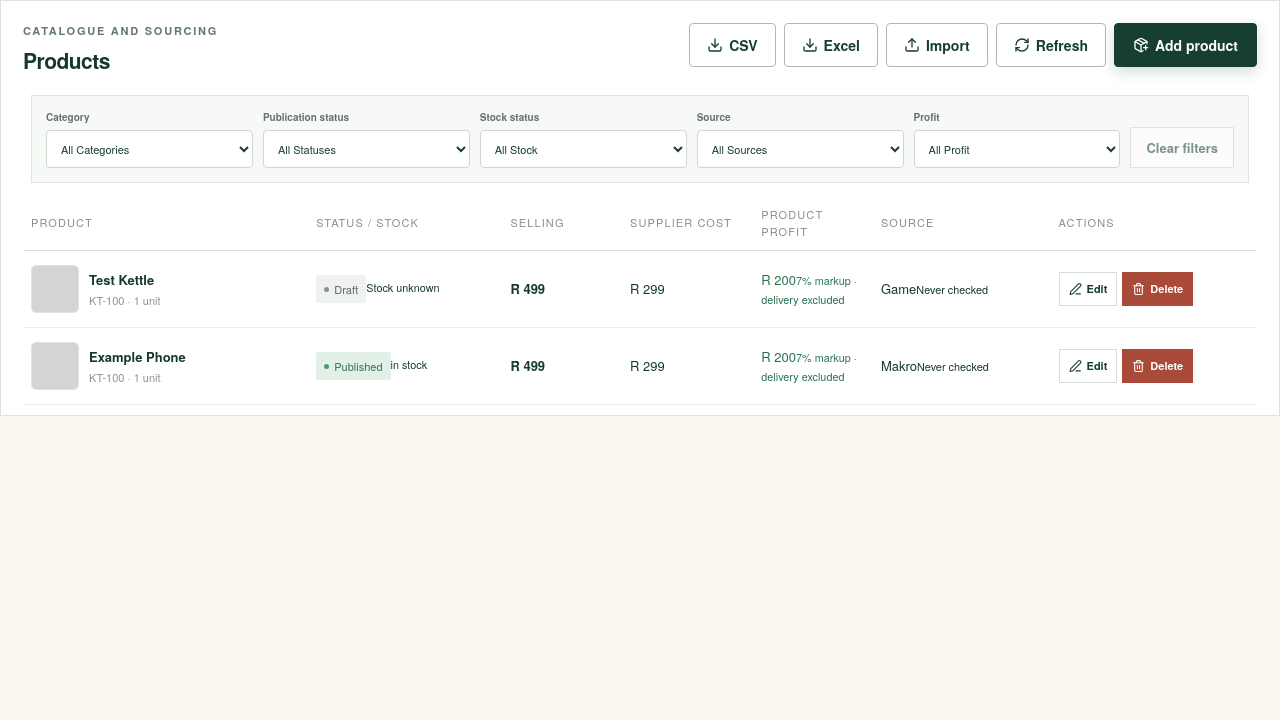
it: ProductManager actions › uses the custom confirmation dialog and deletes only after confirmation
The image size is (1280, 720).
Check: the text "Test Kettle" is shown, box x1=89 y1=270 x2=154 y2=288
Click the button with aria-label "Delete Test Kettle" at (1158, 289), box x1=1122 y1=272 x2=1193 y2=306
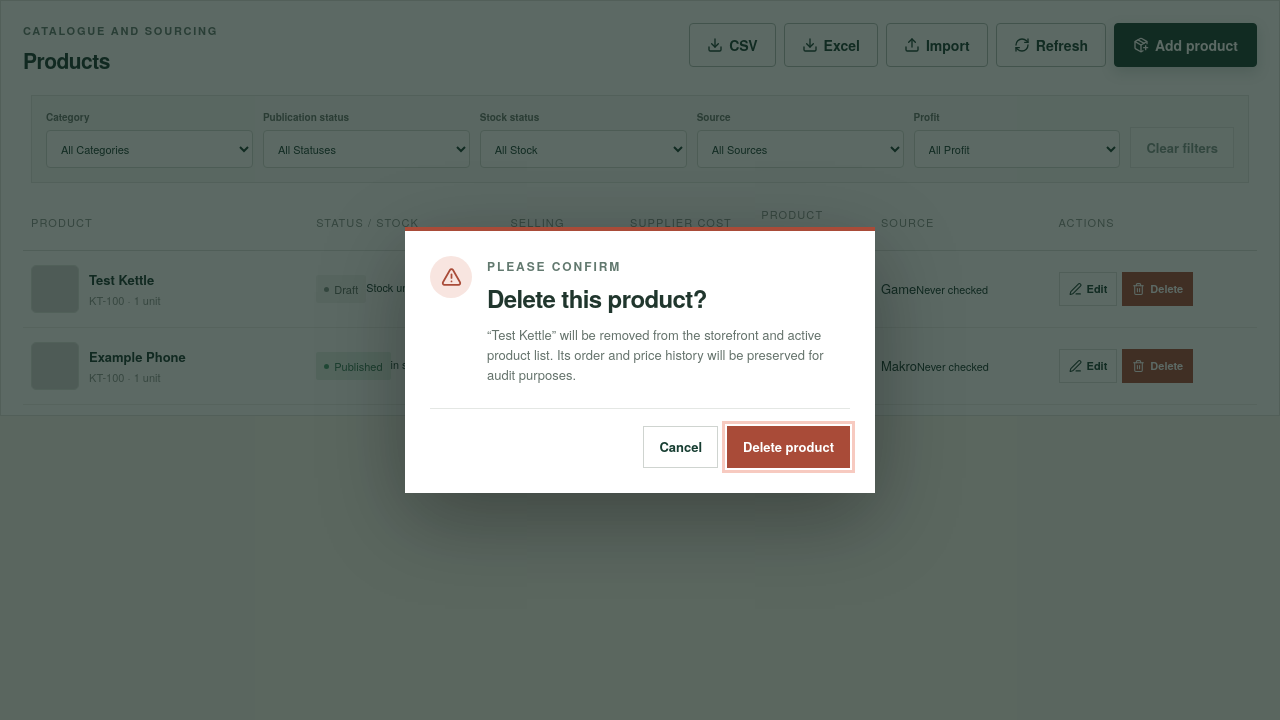
Check: the heading "Delete this product?" is shown, box x1=487 y1=281 x2=707 y2=315
Click the button "Cancel" at (681, 447), box x1=644 y1=426 x2=718 y2=468
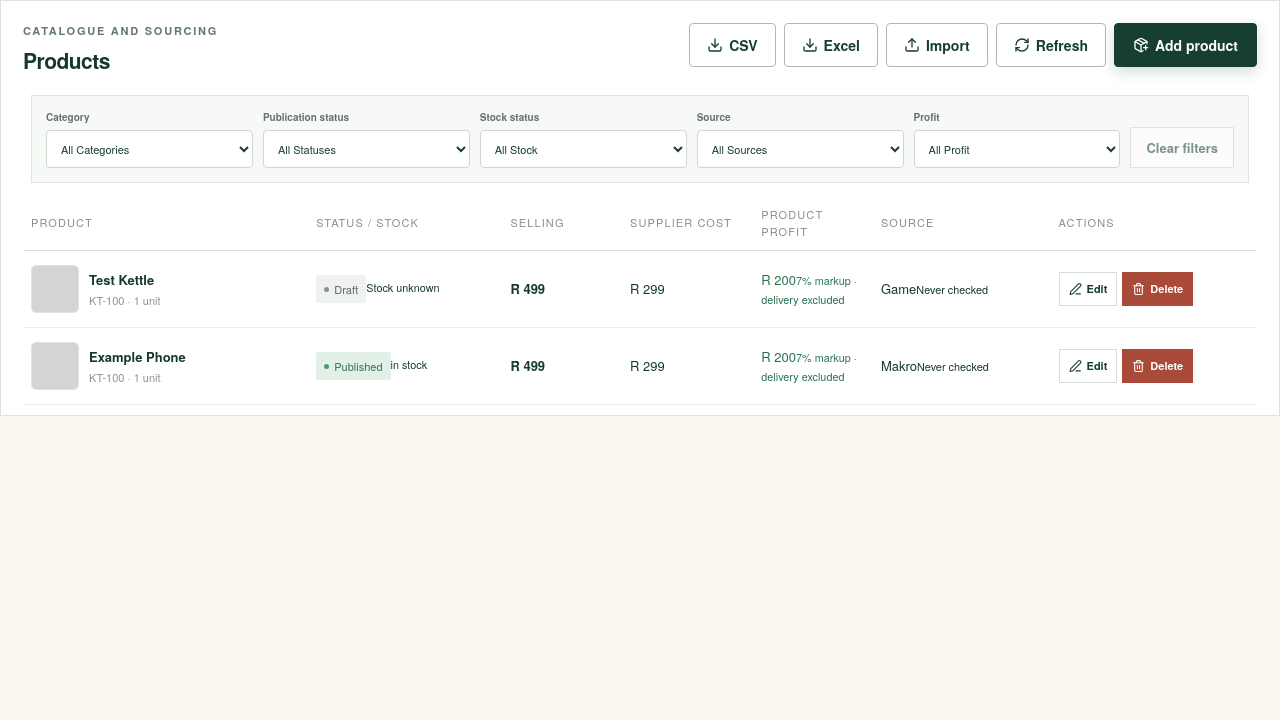
Click the button with aria-label "Delete Test Kettle" at (1158, 289), box x1=1122 y1=272 x2=1193 y2=306
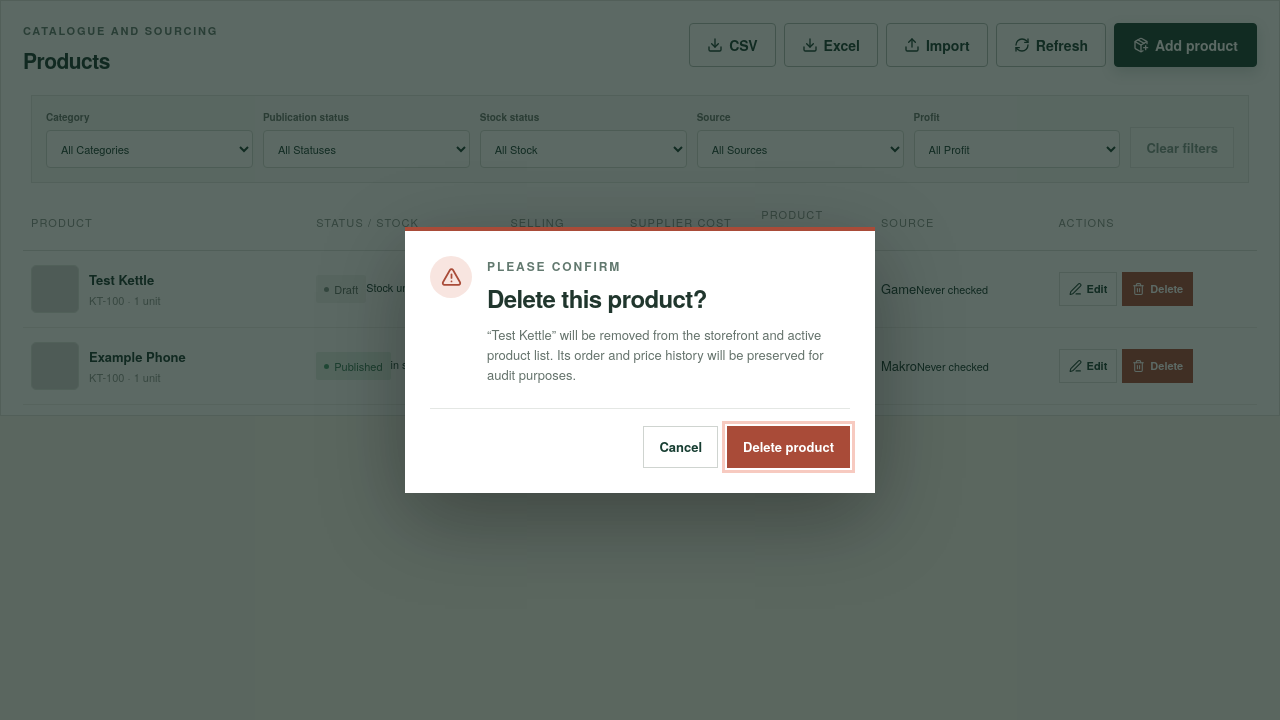
Click the button "Delete product" at (789, 447), box x1=727 y1=426 x2=850 y2=468
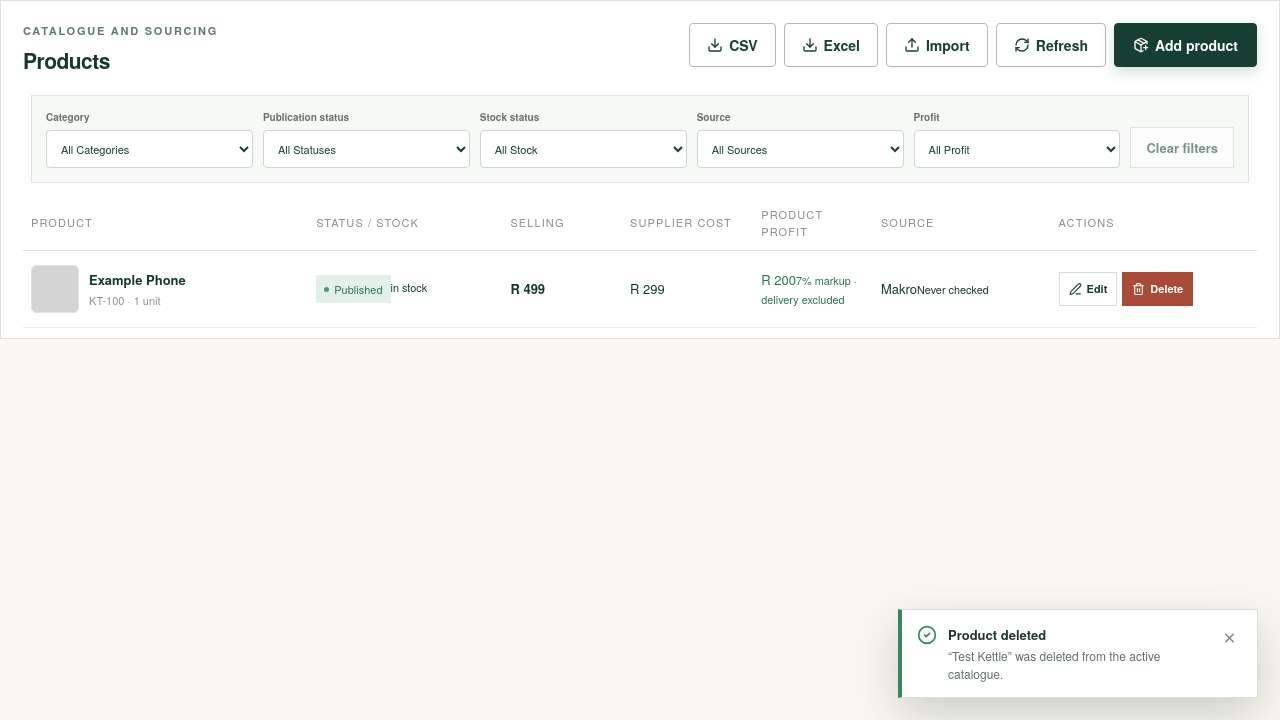
Check: the text "Product deleted" is shown, box x1=948 y1=625 x2=1046 y2=644
